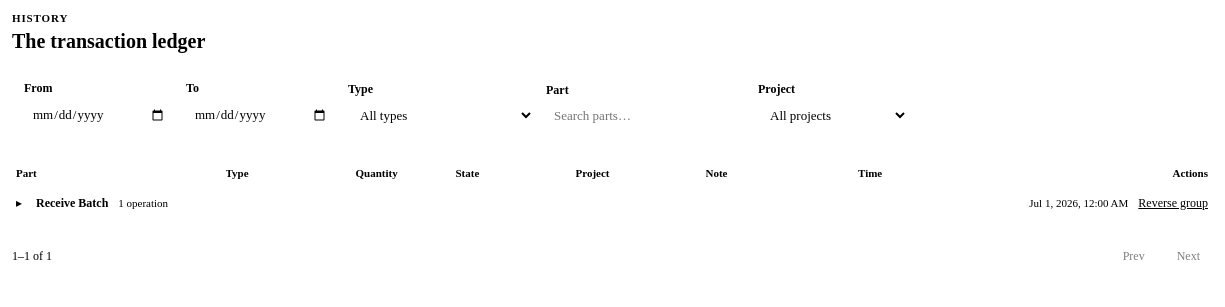
Test: History › a grouped member row has no individual reverse control
Click the button "▸ Receive Batch 1 operation Jul 1, 2026, 12:00 AM" at (72, 202), box [16,196,1128,210]
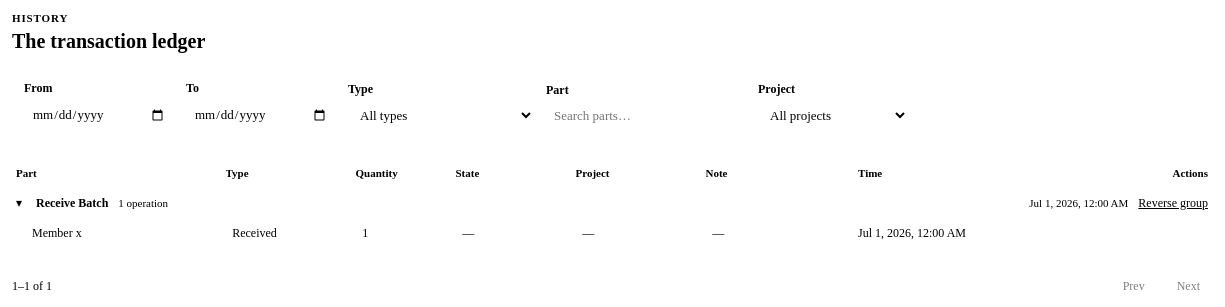
Now the text "Member x" is shown, box [32,226,82,240]
